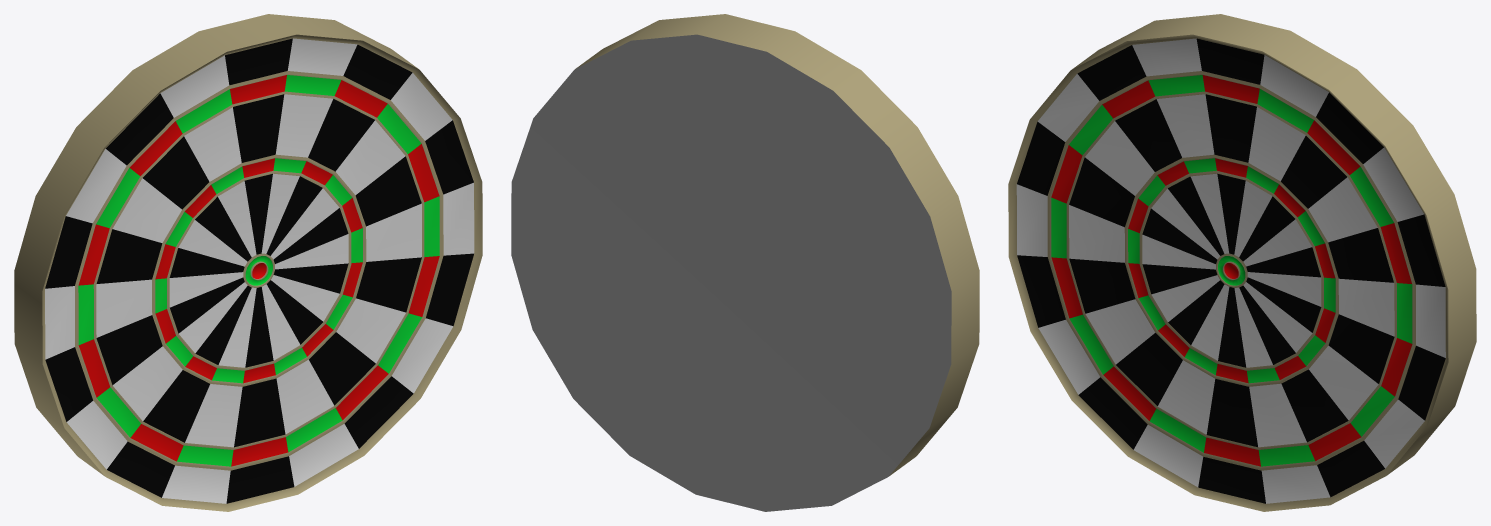
The model's file is Bullseye (DartBoard).fbx.
3 renders of one model, left to right at view 1: azimuth 30°, elevation 25°; view 2: azimuth 150°, elevation 25°; view 3: azimuth 330°, elevation 25°, orthographic.
Visible parts, largest first — view 1: DartBoard; view 2: DartBoard; view 3: DartBoard.
Part boxes in pixels (x1,y1,x2,y2): DartBoard: [14, 14, 482, 511]; DartBoard: [511, 14, 979, 511]; DartBoard: [1008, 14, 1476, 511].
Size of the model in its own units: 106 by 106 by 11.67.
